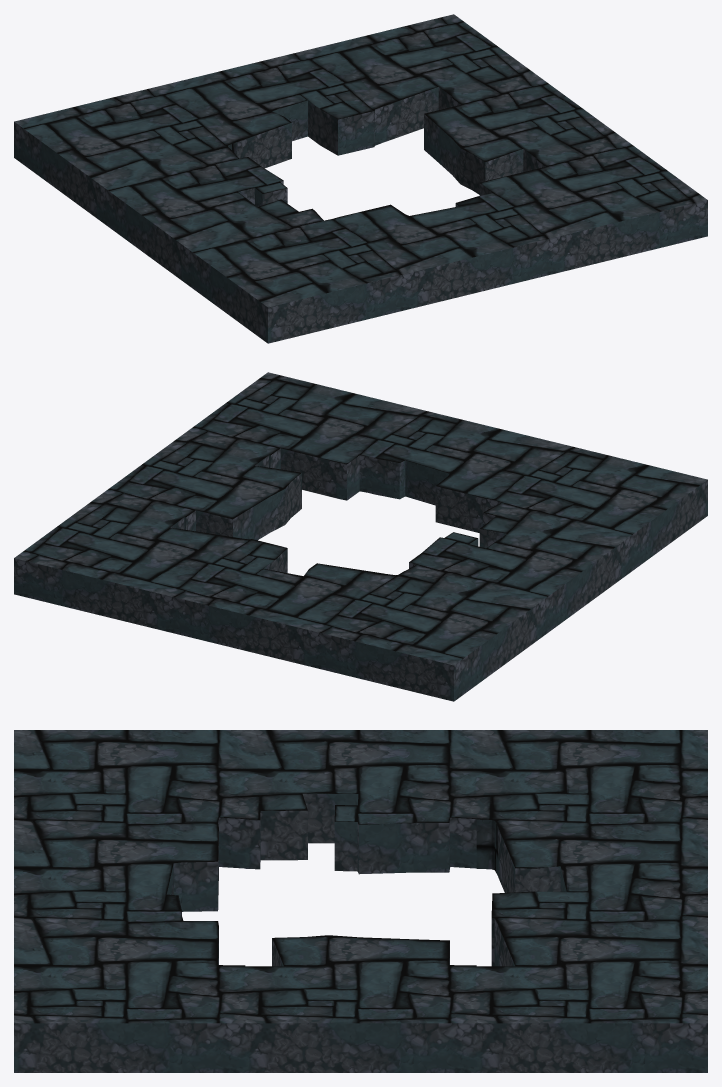
File: Hole_Ceiling.fbx
The picture shows the model from 3 angles, top to bottom: view 1: azimuth 30°, elevation 25°; view 2: azimuth 150°, elevation 25°; view 3: azimuth 270°, elevation 25°; orthographic projection. The views are drawn at different scales.
Visible parts, largest first — view 1: Wall_Tile.008, Wall_Tile.007, Wall_Tile.011, Wall_Tile.010, Wall_Tile.004, Wall_Tile.005, Wall_Tile.009, Wall_Tile.006; view 2: Wall_Tile.011, Wall_Tile.009, Wall_Tile.010, Wall_Tile.008, Wall_Tile.004, Wall_Tile.005, Wall_Tile.007, Wall_Tile.006; view 3: Wall_Tile.009, Wall_Tile.007, Wall_Tile.005, Wall_Tile.006, Wall_Tile.008, Wall_Tile.011, Wall_Tile.010, Wall_Tile.004.
Boxes of the visible parts, x1,y1,x2,y2 form: Wall_Tile.008: (183, 213, 414, 343); Wall_Tile.007: (486, 138, 707, 271); Wall_Tile.011: (14, 86, 237, 219); Wall_Tile.010: (161, 50, 383, 168); Wall_Tile.004: (340, 181, 561, 307); Wall_Tile.005: (98, 151, 316, 281); Wall_Tile.009: (307, 14, 538, 142); Wall_Tile.006: (424, 76, 622, 194); Wall_Tile.011: (307, 571, 538, 701); Wall_Tile.009: (14, 496, 236, 629); Wall_Tile.010: (160, 538, 383, 665); Wall_Tile.008: (486, 444, 707, 577); Wall_Tile.004: (339, 408, 560, 532); Wall_Tile.005: (405, 509, 623, 639); Wall_Tile.007: (183, 372, 414, 498); Wall_Tile.006: (99, 434, 301, 540); Wall_Tile.009: (476, 925, 707, 1072); Wall_Tile.007: (14, 925, 245, 1072); Wall_Tile.005: (245, 730, 476, 874); Wall_Tile.006: (245, 935, 476, 1072); Wall_Tile.008: (14, 730, 245, 868); Wall_Tile.011: (476, 730, 707, 876); Wall_Tile.010: (491, 828, 707, 966); Wall_Tile.004: (14, 828, 218, 925).
Size of the model in its own units: 600 by 47.16 by 600.
